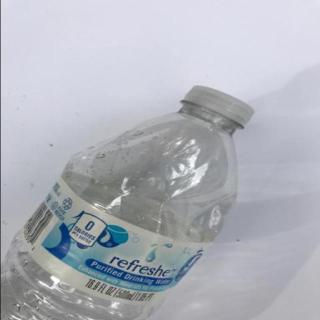Anorganik: (0, 76, 258, 320)
